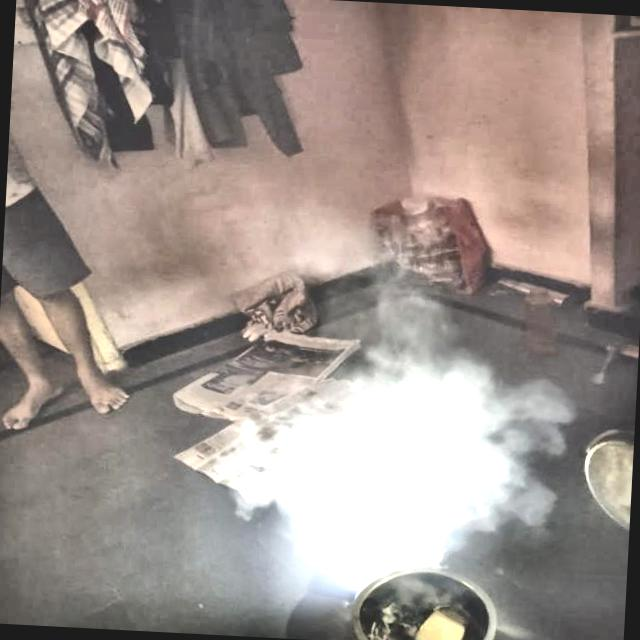smoke: (259, 372, 466, 590)
